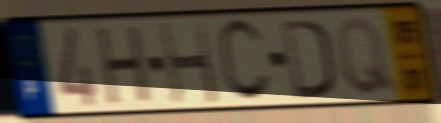4: (55, 22, 101, 112)
C: (215, 16, 274, 106)
D: (279, 16, 336, 101)
H: (157, 18, 222, 107), (95, 22, 153, 109)
Q: (333, 14, 398, 99)
